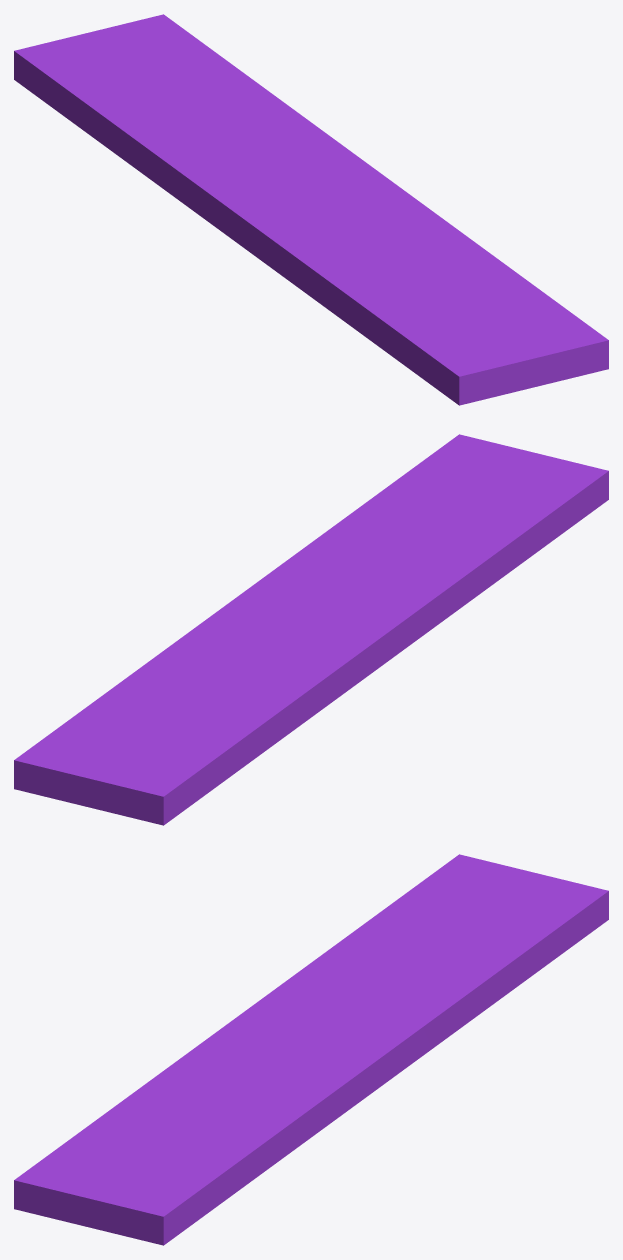
Rendered from StairsStep_82_chunks.fbx.
The picture shows the model from 3 angles, top to bottom: view 1: azimuth 30°, elevation 25°; view 2: azimuth 150°, elevation 25°; view 3: azimuth 330°, elevation 25°; orthographic projection.
Visible parts, largest first — view 1: StairsStep_82_0, StairsStep_82_3, StairsStep_82_2, StairsStep_82_1; view 2: StairsStep_82_0, StairsStep_82_3, StairsStep_82_2, StairsStep_82_1; view 3: StairsStep_82_0, StairsStep_82_3, StairsStep_82_2, StairsStep_82_1.
Boxes of the visible parts, x1=… form: StairsStep_82_0: x1=14, y1=14, x2=349, y2=227; StairsStep_82_3: x1=287, y1=185, x2=608, y2=380; StairsStep_82_2: x1=216, y1=199, x2=558, y2=405; StairsStep_82_1: x1=326, y1=151, x2=454, y2=227; StairsStep_82_0: x1=14, y1=615, x2=372, y2=825; StairsStep_82_3: x1=283, y1=434, x2=553, y2=622; StairsStep_82_2: x1=332, y1=457, x2=608, y2=677; StairsStep_82_1: x1=201, y1=547, x2=305, y2=623; StairsStep_82_0: x1=251, y1=854, x2=608, y2=1048; StairsStep_82_3: x1=69, y1=1028, x2=339, y2=1245; StairsStep_82_2: x1=14, y1=1007, x2=290, y2=1233; StairsStep_82_1: x1=243, y1=1027, x2=431, y2=1187.
Size of the model in its own units: 157 by 28.98 by 810.
